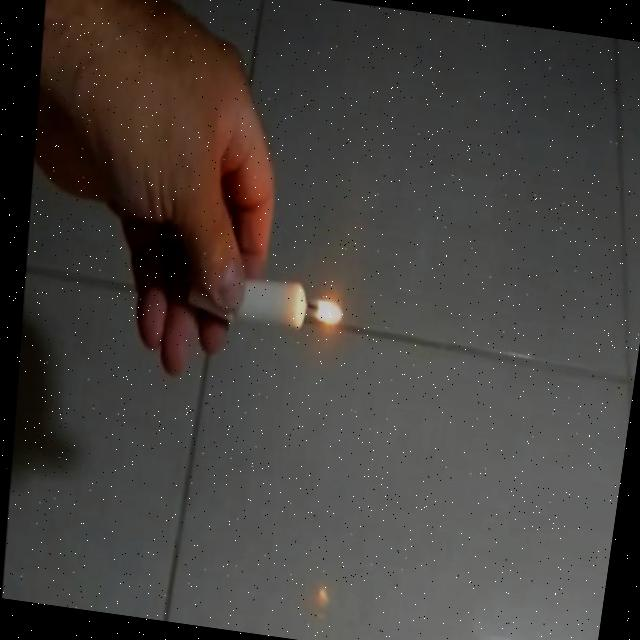fire: (297, 286, 346, 334)
